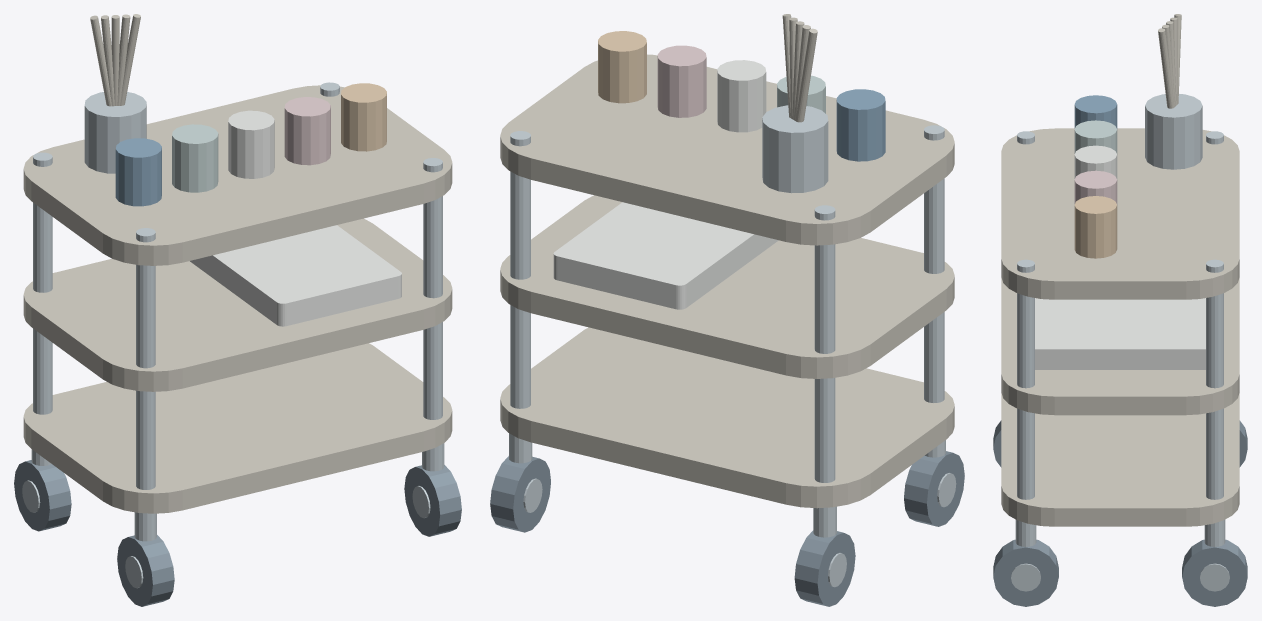
The model's file is school_art_cart.glb.
3 renders of one model, left to right at view 1: azimuth 30°, elevation 25°; view 2: azimuth 150°, elevation 25°; view 3: azimuth 270°, elevation 25°, orthographic. The views are drawn at different scales.
Parts seen in each view (by area): view 1: decor_aaa493_matte, decor_9aadb8_metal, decor_d8dcd8_matte, decor_455665_metal, decor_476a8a_matte, decor_9bb7b5_matte, decor_c5a5a8_matte, decor_c6a176_matte; view 2: decor_aaa493_matte, decor_9aadb8_metal, decor_d8dcd8_matte, decor_455665_metal, decor_476a8a_matte, decor_c5a5a8_matte, decor_c6a176_matte, decor_9bb7b5_matte; view 3: decor_aaa493_matte, decor_9aadb8_metal, decor_d8dcd8_matte, decor_455665_metal, decor_c6a176_matte, decor_476a8a_matte, decor_9bb7b5_matte, decor_c5a5a8_matte.
Boxes of the visible parts, x1,y1,x2,y2 form: decor_aaa493_matte: (23,14,452,513); decor_9aadb8_metal: (22,82,444,588); decor_d8dcd8_matte: (190,110,401,326); decor_455665_metal: (14,460,461,606); decor_476a8a_matte: (115,138,161,206); decor_9bb7b5_matte: (172,124,218,192); decor_c5a5a8_matte: (284,97,330,165); decor_c6a176_matte: (341,83,386,151); decor_aaa493_matte: (500,14,954,508); decor_9aadb8_metal: (509,105,956,587); decor_d8dcd8_matte: (553,60,778,309); decor_455665_metal: (490,451,964,606); decor_476a8a_matte: (836,89,885,161); decor_c5a5a8_matte: (657,45,706,117); decor_c6a176_matte: (598,31,646,103); decor_9bb7b5_matte: (777,75,825,113); decor_aaa493_matte: (1001,14,1239,526); decor_9aadb8_metal: (1011,94,1229,591); decor_d8dcd8_matte: (1035,145,1205,369); decor_455665_metal: (993,420,1247,606); decor_c6a176_matte: (1074,196,1117,258); decor_476a8a_matte: (1074,95,1117,128); decor_9bb7b5_matte: (1074,120,1117,154); decor_c5a5a8_matte: (1074,170,1117,204).
Bounding box in the file's own units: 0.88 × 1.27 × 0.62.
